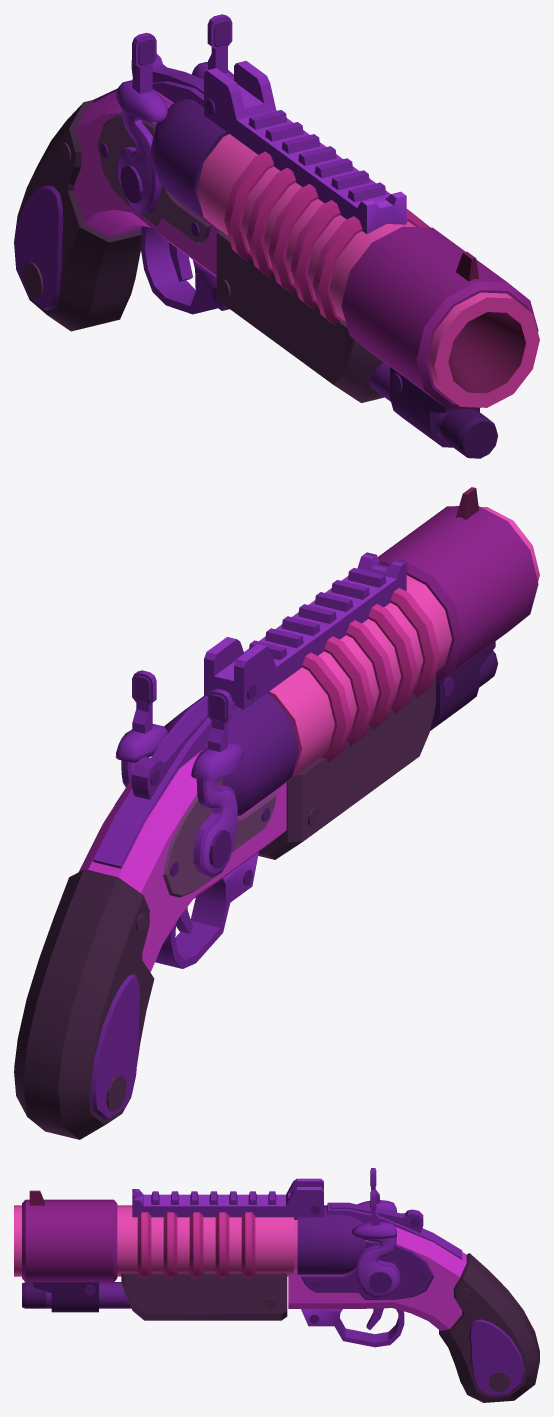
The model's file is Weapon_ShotGun_01_G4.fbx.
The picture shows the model from 3 angles, top to bottom: view 1: azimuth 30°, elevation 25°; view 2: azimuth 150°, elevation 25°; view 3: azimuth 270°, elevation 25°; orthographic projection. The views are drawn at different scales.
Parts seen in each view (by area): view 1: Weapon_ShotGun_04; view 2: Weapon_ShotGun_04; view 3: Weapon_ShotGun_04.
Boxes of the visible parts, x1,y1,x2,y2 form: Weapon_ShotGun_04: (14,14,539,458); Weapon_ShotGun_04: (14,487,539,1139); Weapon_ShotGun_04: (14,1168,539,1402).
Size of the model in its own units: 1.13 by 3.27 by 7.16.
